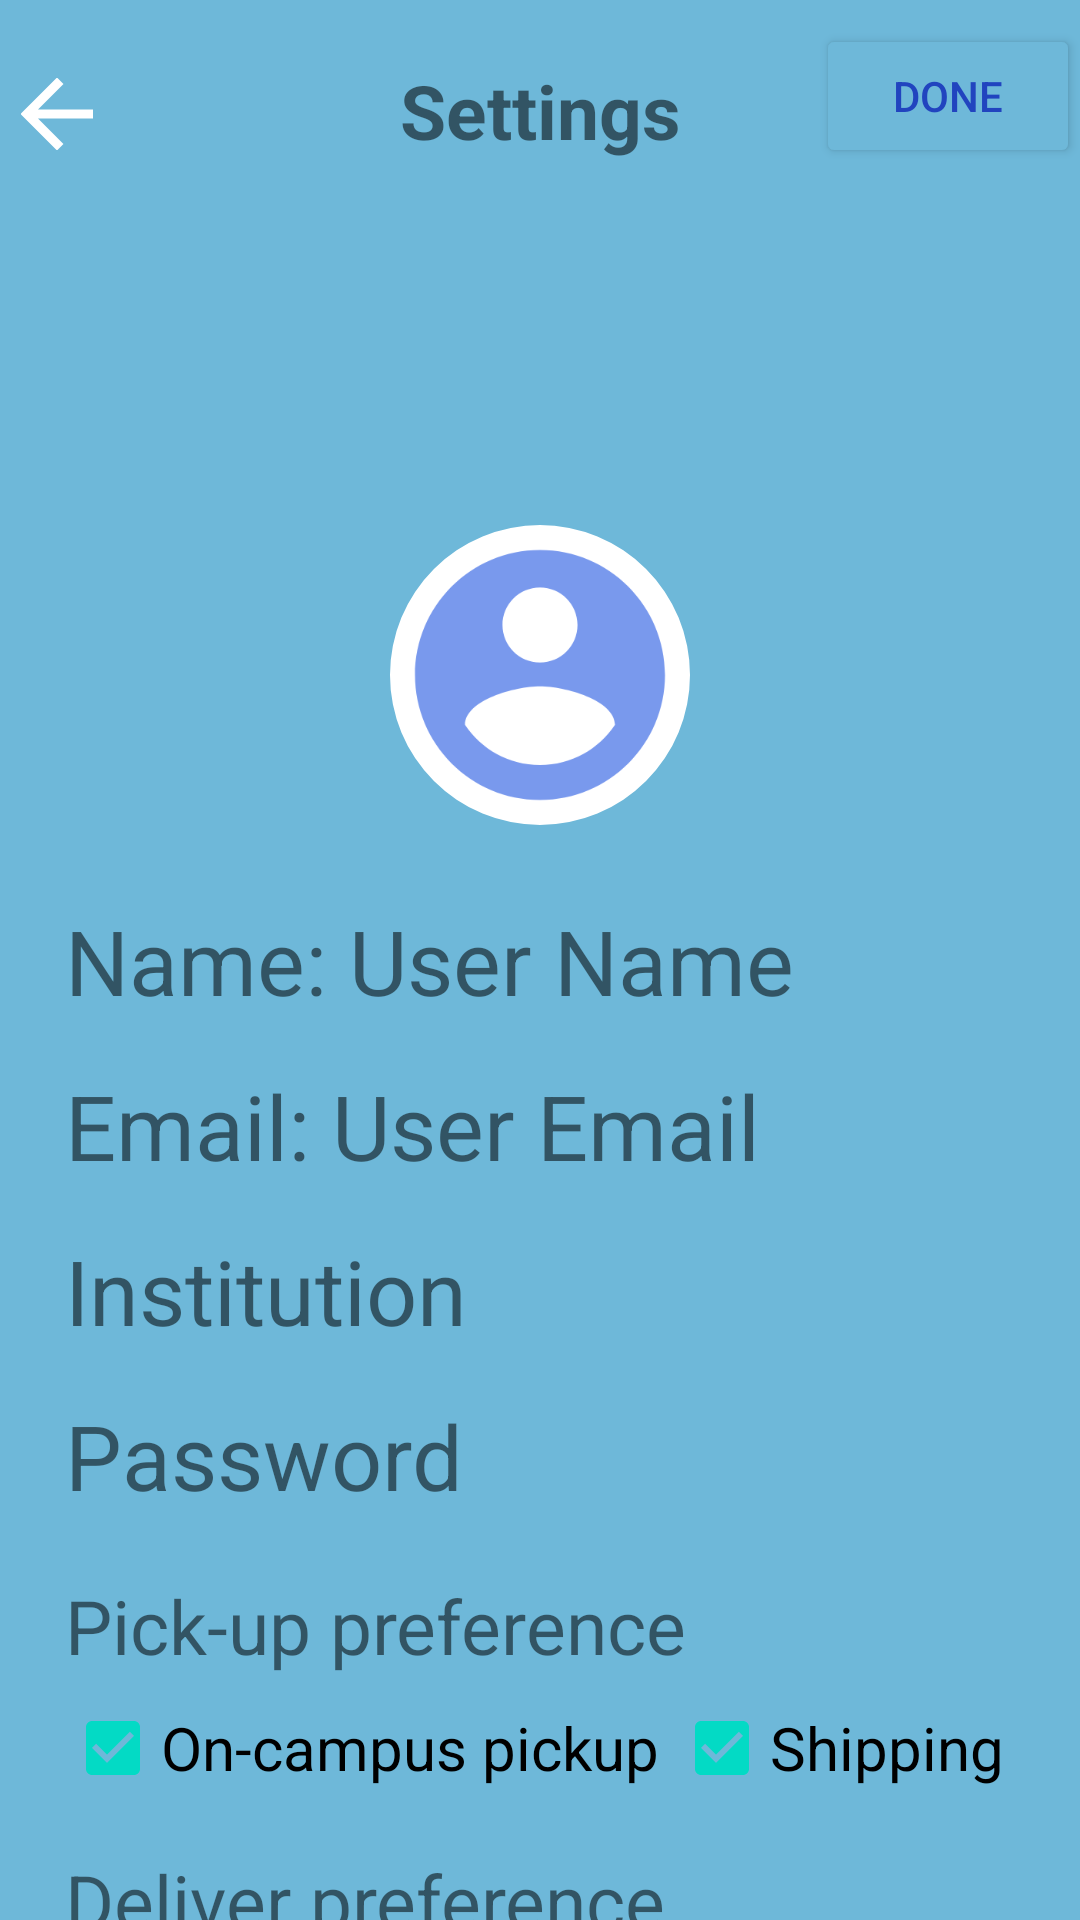

Named icons in this screenshot (1080px×1920px) and their bounding boxes, (x1=x1, y1=y1, x2=x2, y2=y2):
account circle: (x1=390, y1=525, x2=690, y2=825)
back arrow: (x1=21, y1=78, x2=93, y2=150)
